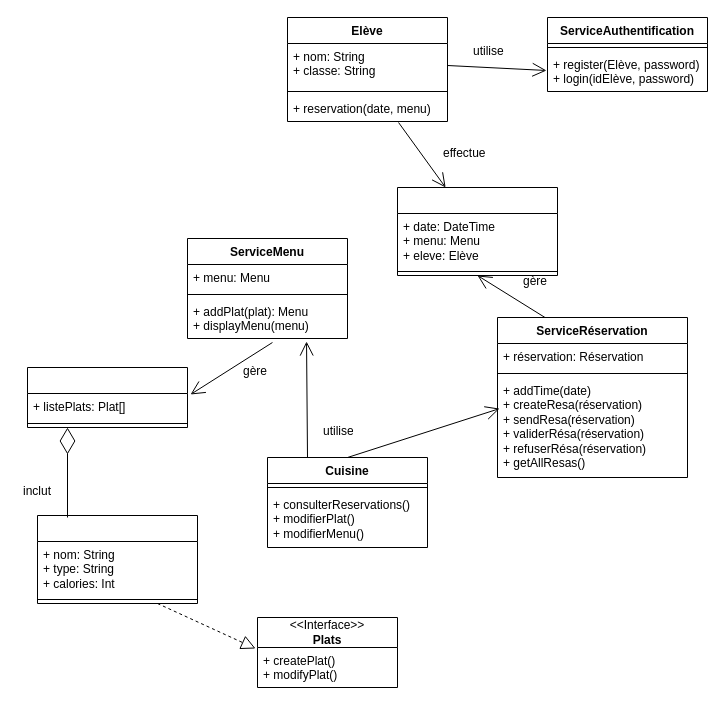
The diagram is 725 pixels wide and 708 high, and some of its shapes have lost their labels. Each missing label, with the box of its shape:
Menu: (26, 366, 188, 428)
Plat: (36, 514, 198, 604)
Réservation: (396, 186, 558, 276)
